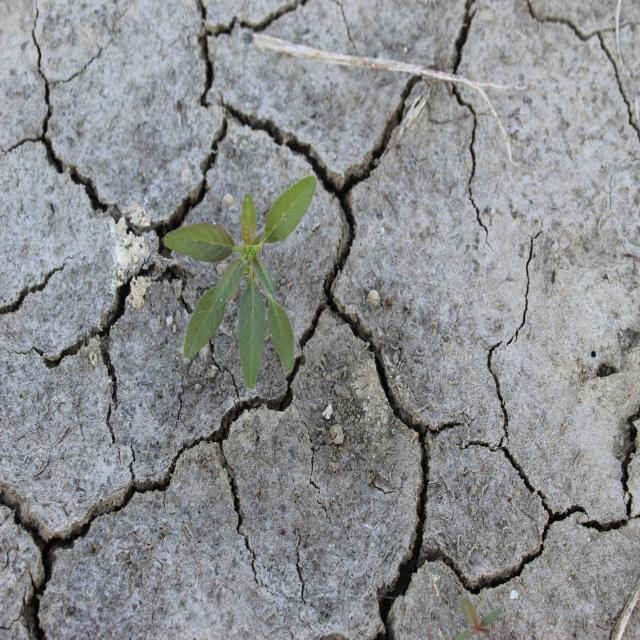Waterhemp: (162, 173, 318, 391)
